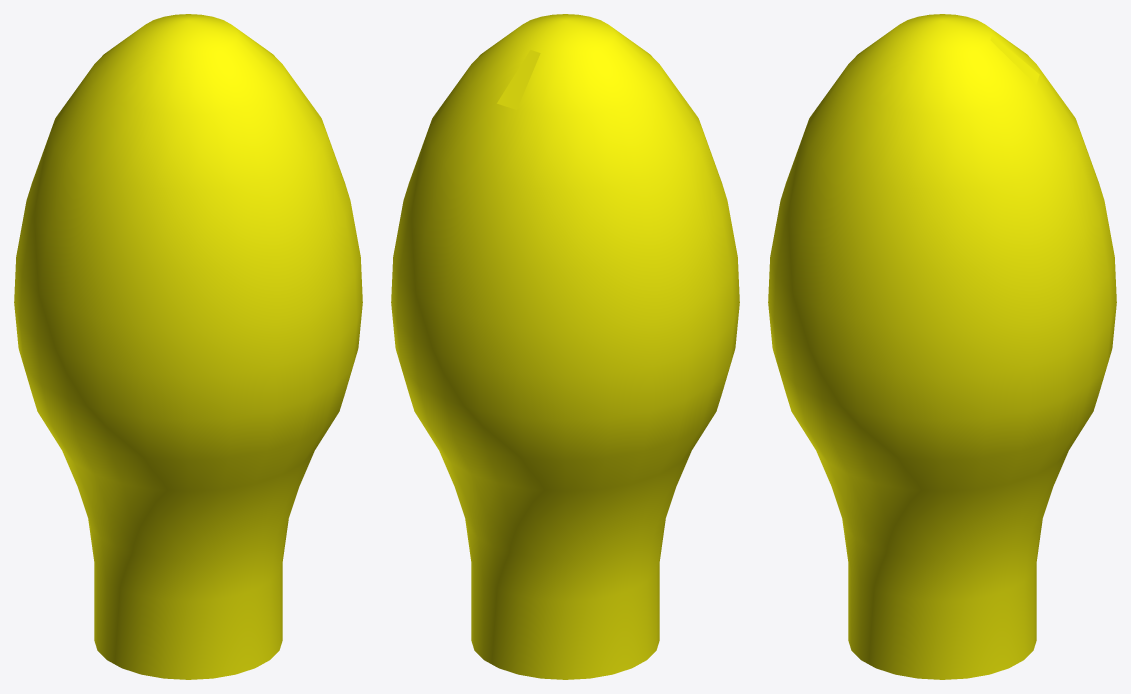
File: foco.obj
3 views of the same model, side by side, from view 1: azimuth 30°, elevation 25°; view 2: azimuth 150°, elevation 25°; view 3: azimuth 270°, elevation 25° (orthographic).
Visible parts, largest first — view 1: foco:foco; view 2: foco:foco; view 3: foco:foco.
Boxes of the visible parts, x1,y1,x2,y2 form: foco:foco: [14, 14, 362, 679]; foco:foco: [391, 14, 739, 679]; foco:foco: [768, 14, 1116, 679].
Bounding box in the file's own units: 0.0584 × 0.1144 × 0.0584.
1 material, 1 textured.
